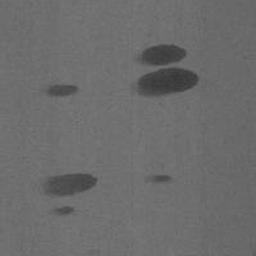Oil spot: (129, 42, 200, 100), (37, 172, 99, 198), (41, 83, 79, 99), (143, 173, 173, 186), (51, 205, 76, 218)
